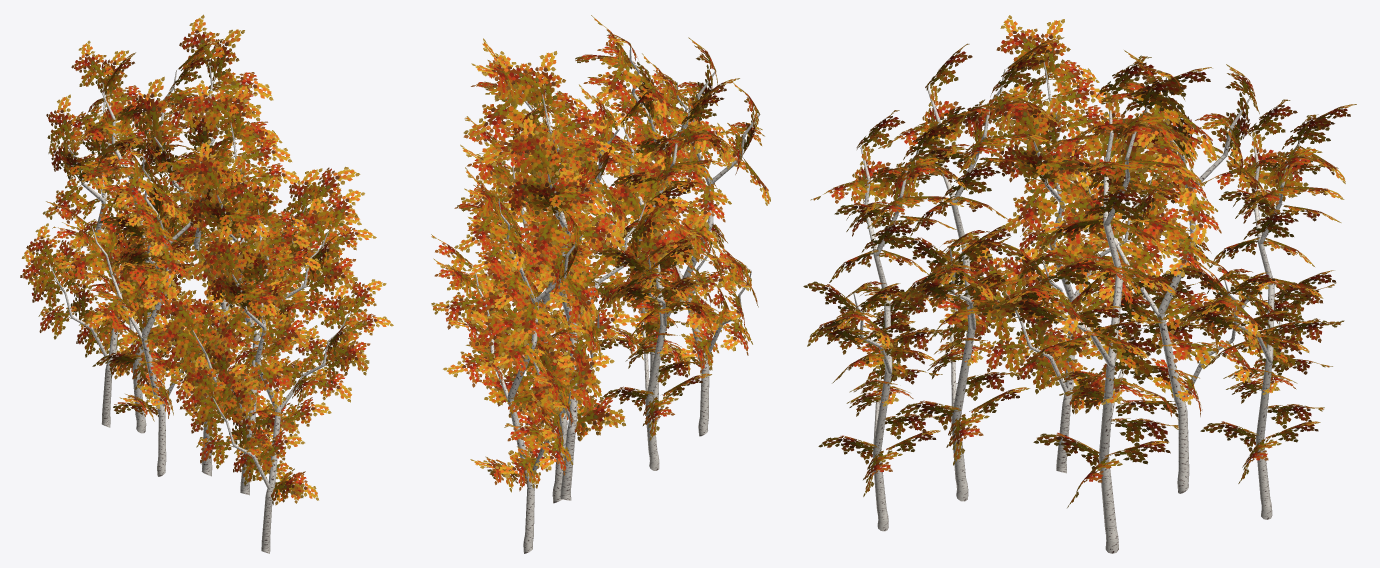
File: branch wall.fbx
3 renders of one model, left to right at view 1: azimuth 30°, elevation 25°; view 2: azimuth 150°, elevation 25°; view 3: azimuth 270°, elevation 25°, orthographic. The views are drawn at different scales.
Parts seen in each view (by area): view 1: branch_wall; view 2: branch_wall; view 3: branch_wall.
Part boxes in pixels (<box>): branch_wall: <box>20,14,393,553</box>; branch_wall: <box>431,15,770,553</box>; branch_wall: <box>803,15,1356,553</box>.
Bounding box in the file's own units: 799 × 1248 × 1258.
